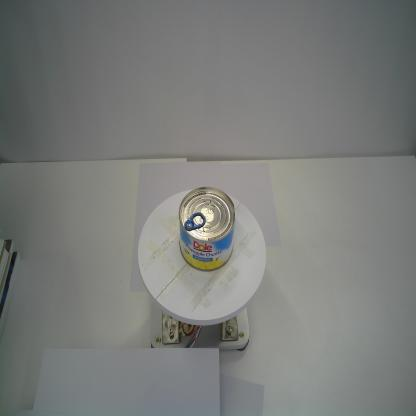Canned Food: (176, 184, 236, 272)
